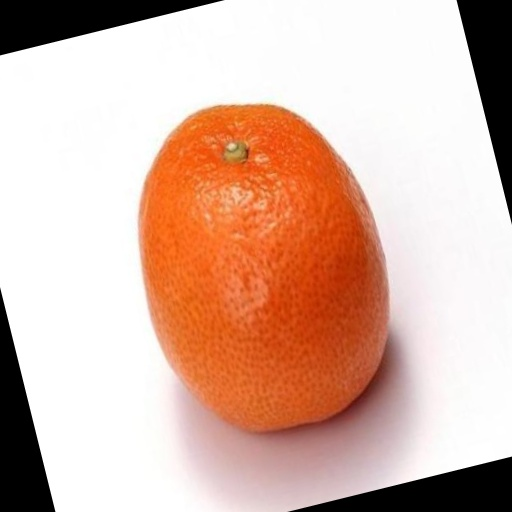fruit: (44, 159, 293, 512)
